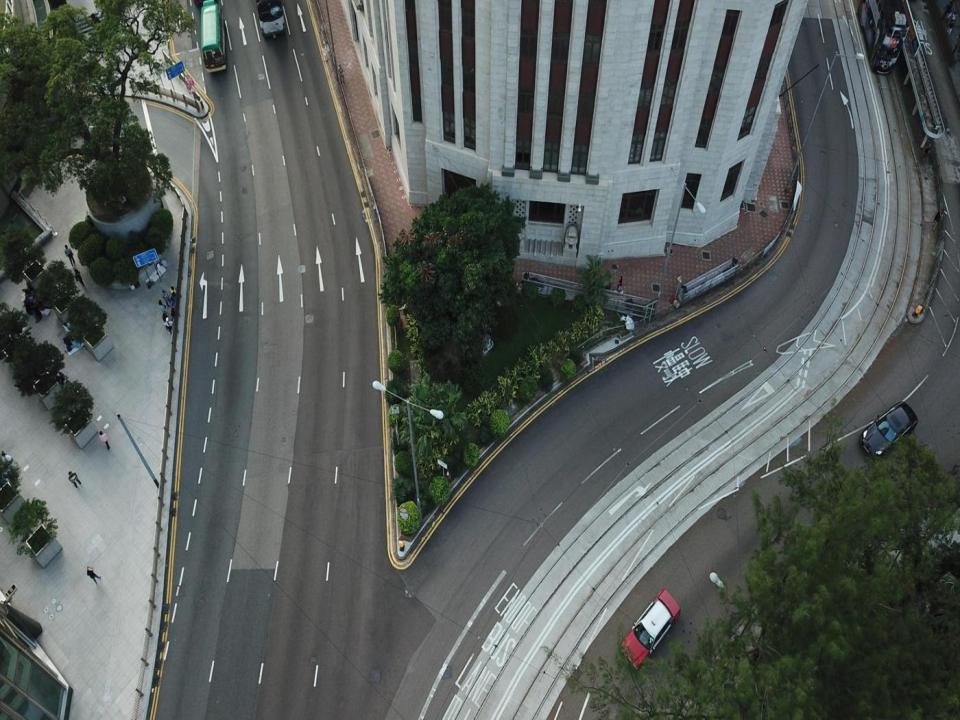bus: (855, 0, 908, 77), (200, 0, 227, 73)
car: (622, 590, 680, 668), (861, 401, 916, 461)
